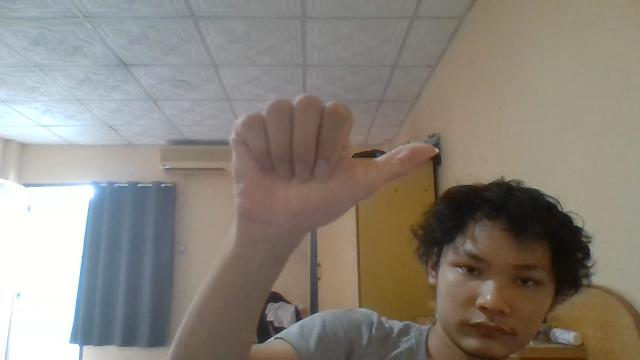left: (228, 92, 440, 236)
